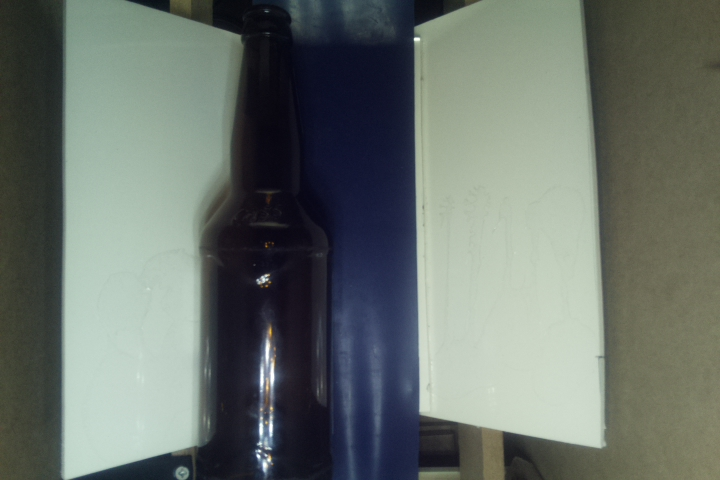makju: (195, 5, 338, 480)
